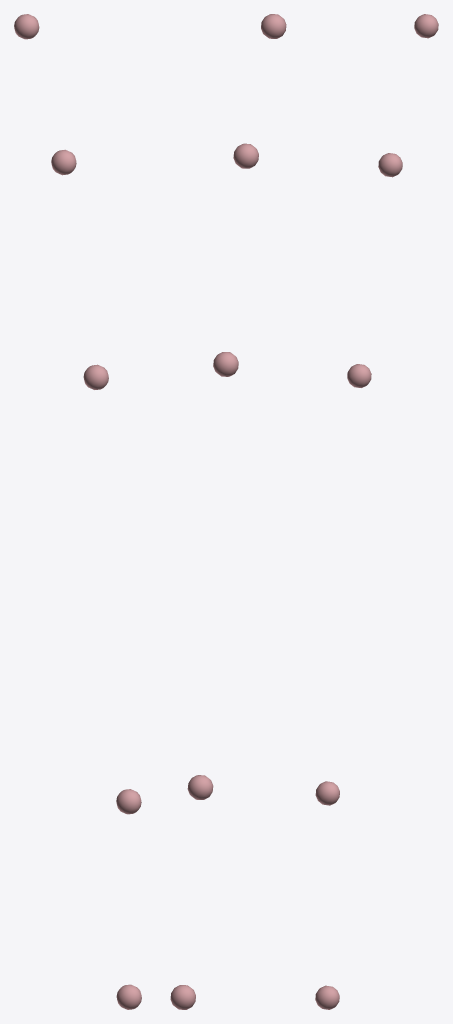
The picture shows the model from 3 angles, left to right: view 1: azimuth 90°, elevation 25°; view 2: azimuth 210°, elevation 25°; view 3: azimuth 270°, elevation 25°; orthographic projection. The views are drawn at different scales.
Parts seen in each view (by area): view 1: ZA_18e0fc166a61646a; view 2: ZA_18e0fc166a61646a; view 3: ZA_18e0fc166a61646a.
Part boxes in pixels (bbox=[...]): ZA_18e0fc166a61646a: bbox=[14, 14, 141, 1009]; ZA_18e0fc166a61646a: bbox=[170, 14, 286, 1009]; ZA_18e0fc166a61646a: bbox=[315, 14, 438, 1009].
Bounding box in the file's own units: 0.00703 × 0.113 × 0.0129.
